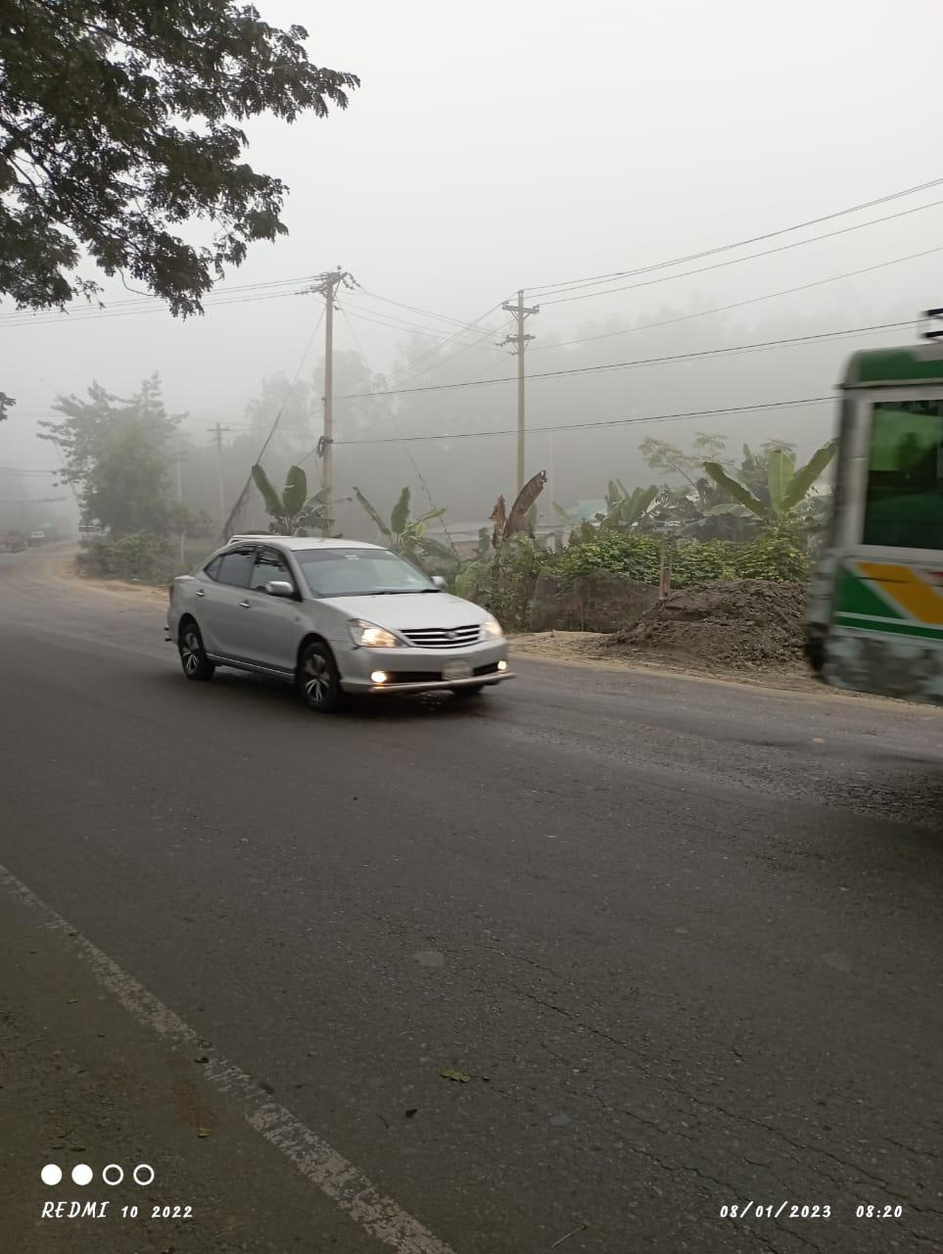Car: (146, 522, 519, 721), (801, 316, 943, 752)
